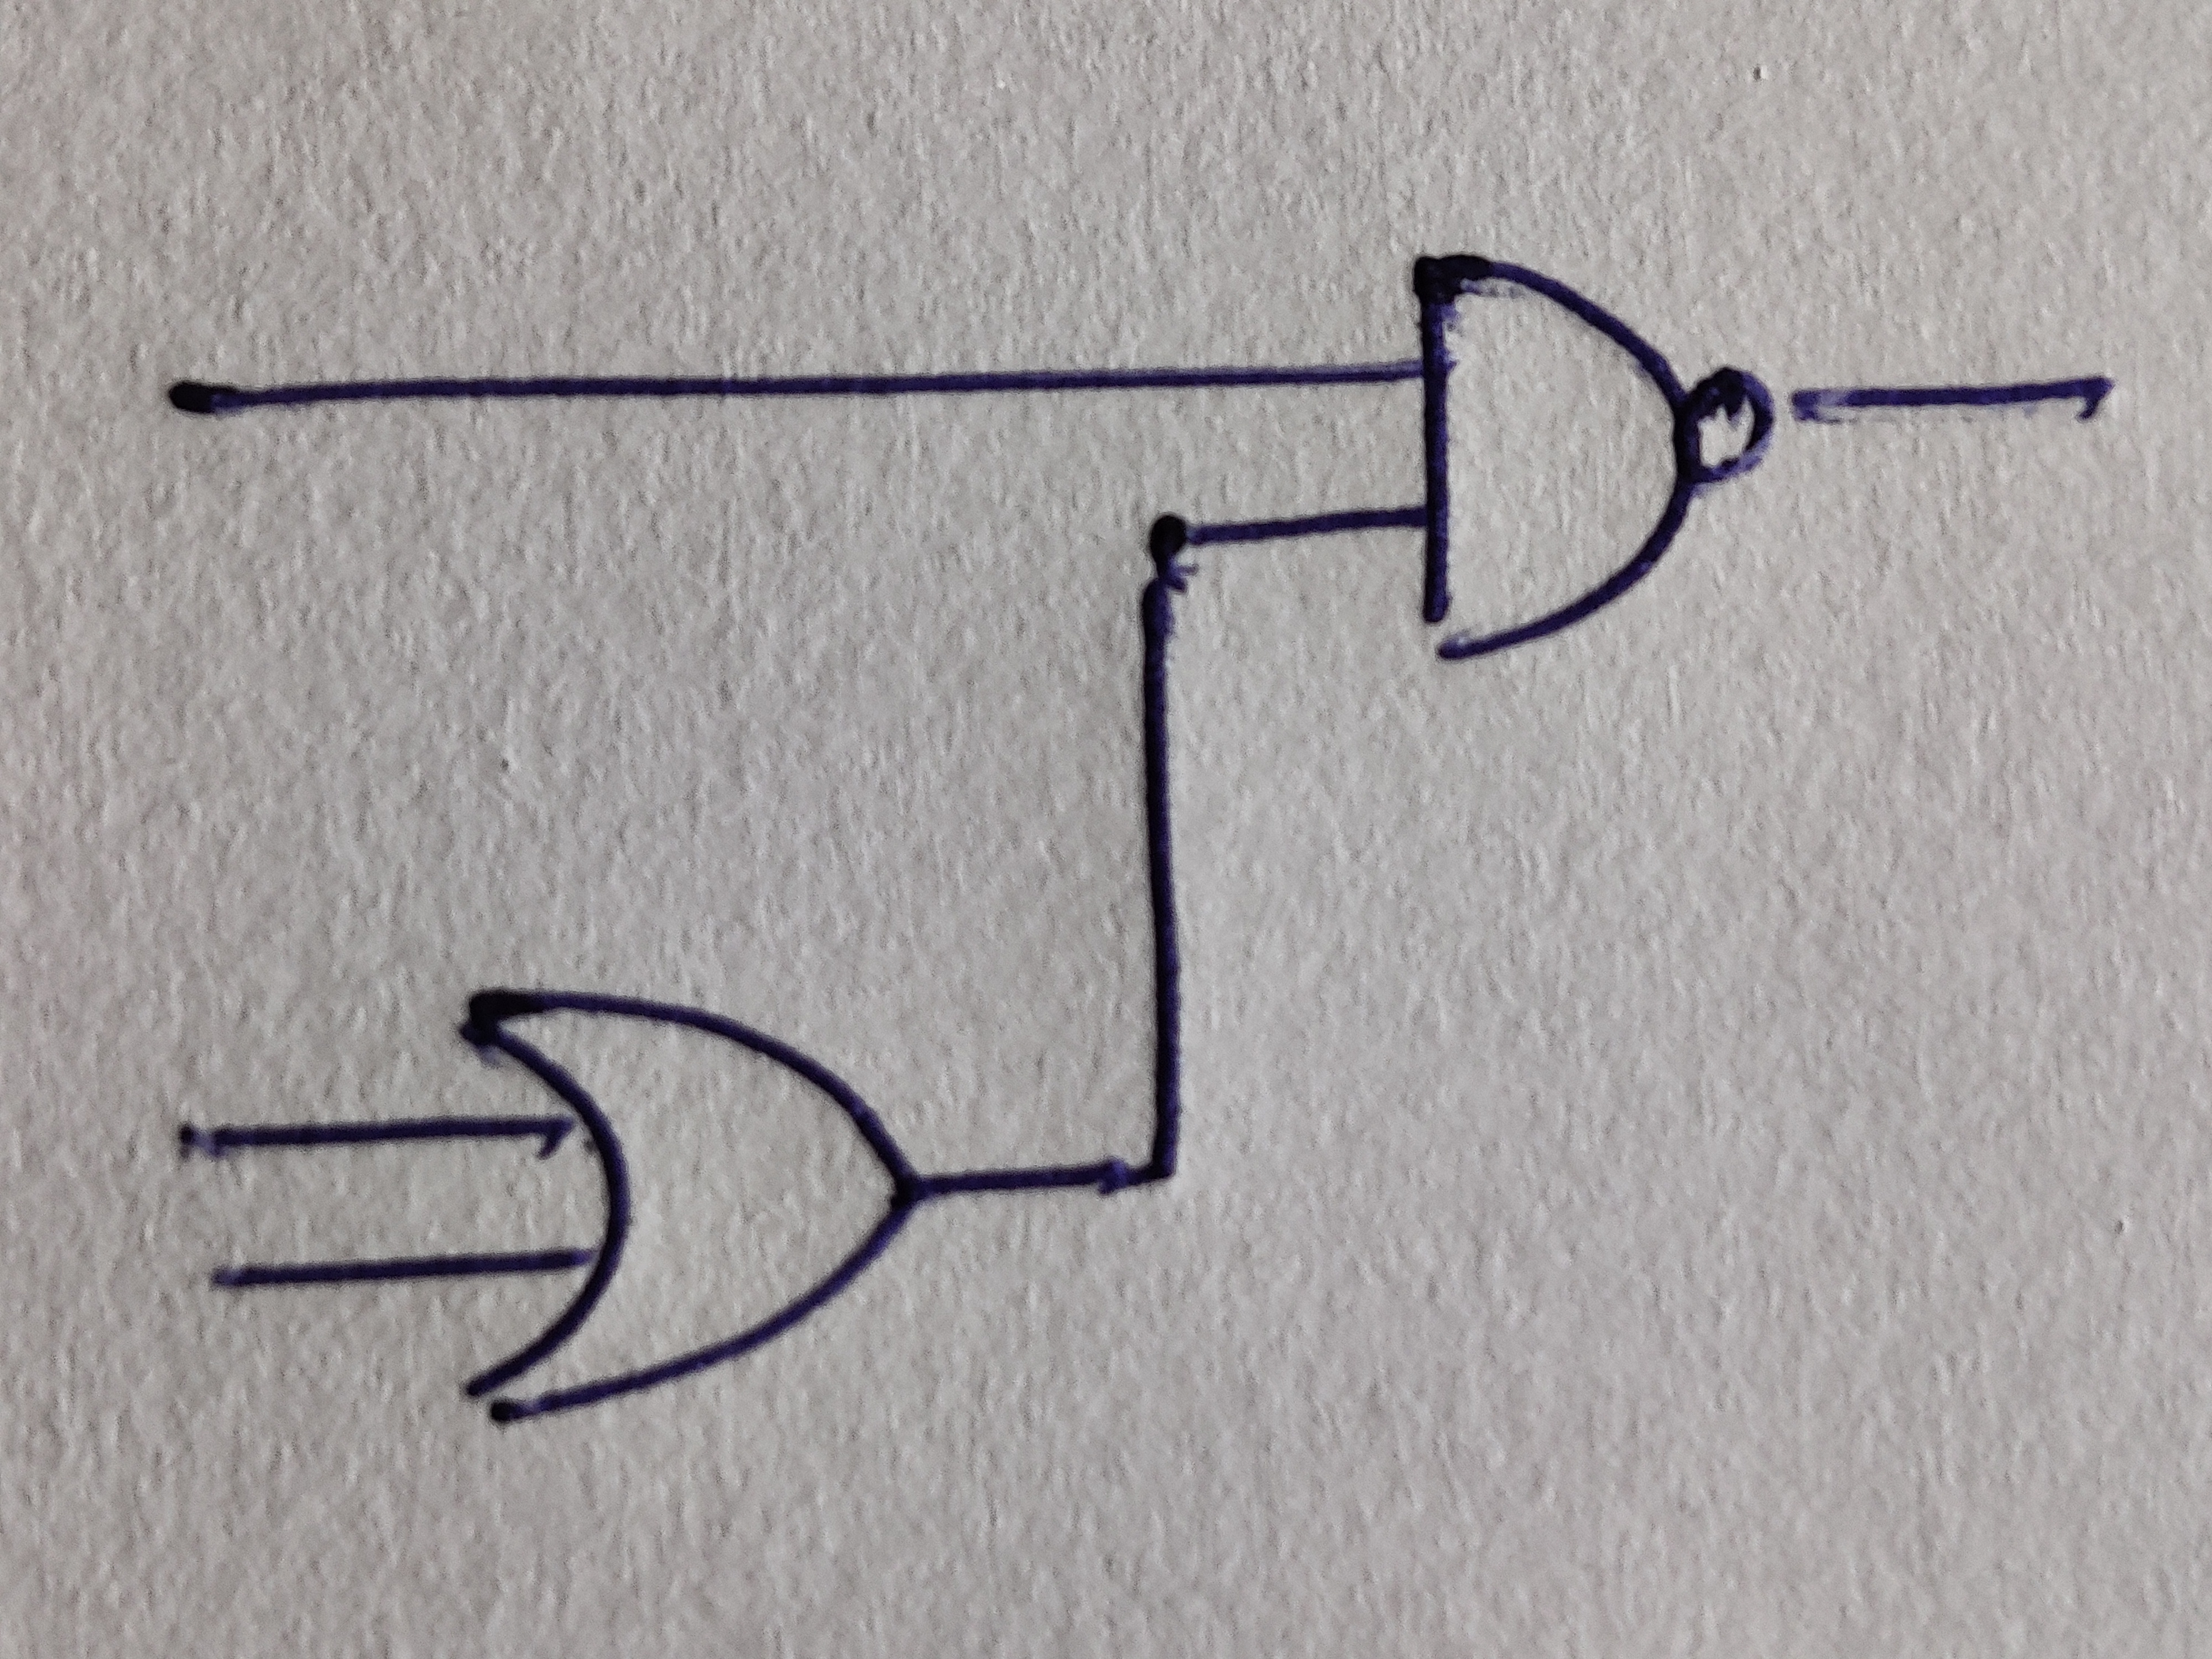and: (1414, 253, 1698, 662)
not: (1679, 362, 1775, 486)
or: (458, 990, 916, 1427)
